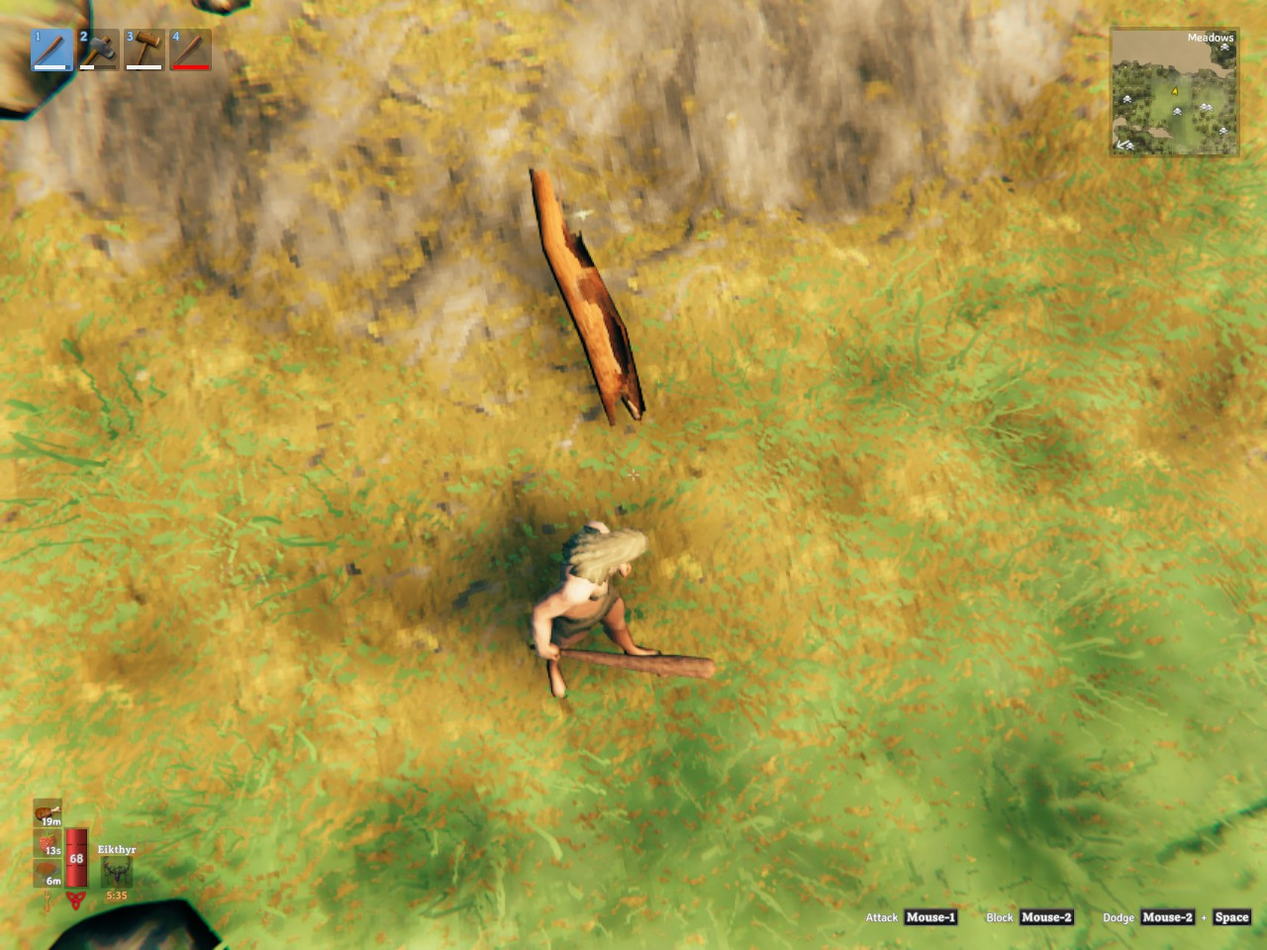Club: (560, 650, 715, 678)
Deer Hide: (530, 169, 644, 426)
Food Indicator: (36, 797, 63, 891)
Health Bar: (63, 826, 90, 891)
Hotbar: (25, 21, 398, 78)
